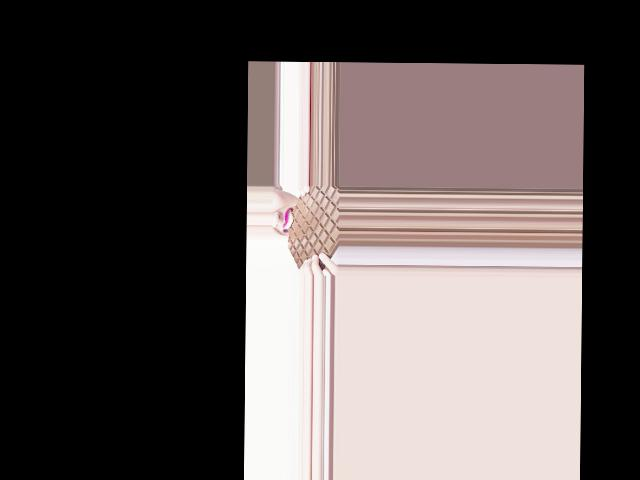chocolate: (285, 186, 339, 276)
